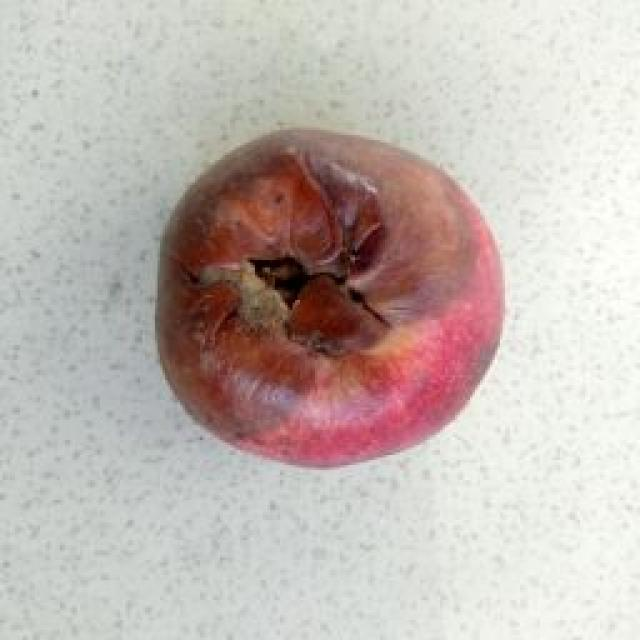Bad_Apple: (160, 129, 502, 464)
